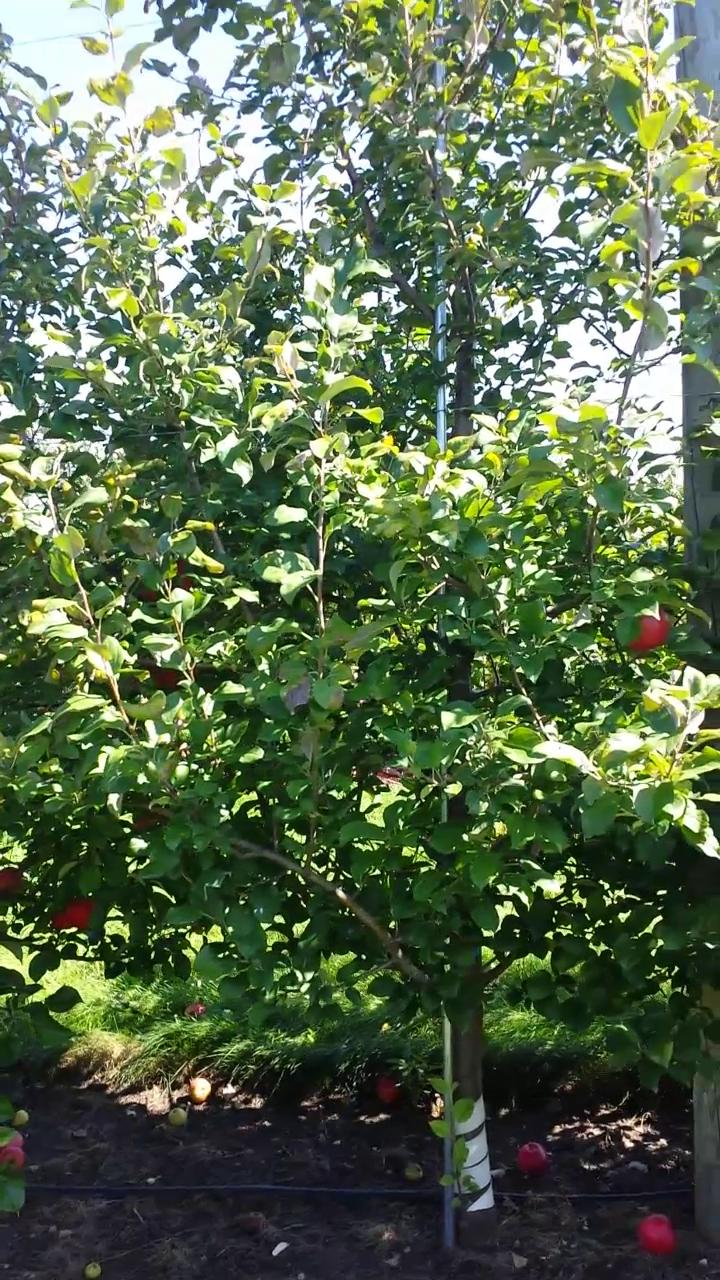Apple: (625, 603, 671, 656), (65, 898, 99, 930), (0, 864, 24, 895), (150, 667, 182, 690), (49, 908, 77, 933), (176, 557, 193, 591), (132, 813, 158, 832), (378, 767, 403, 781), (133, 587, 157, 601)
